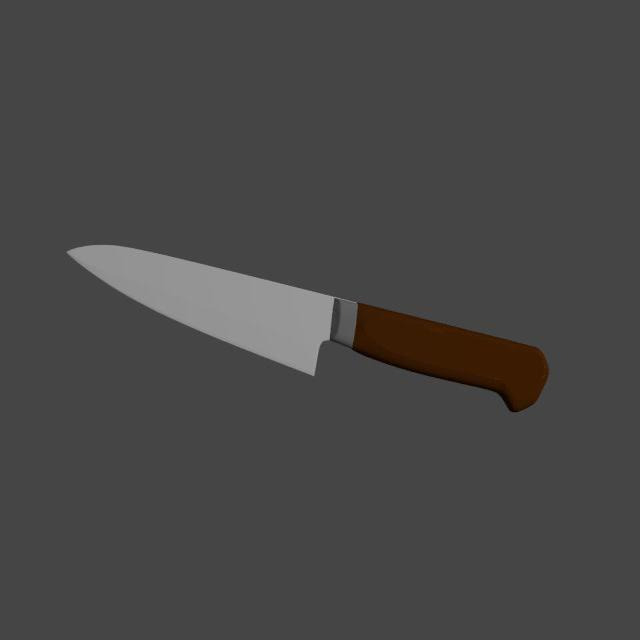knife: (351, 302, 549, 413)
